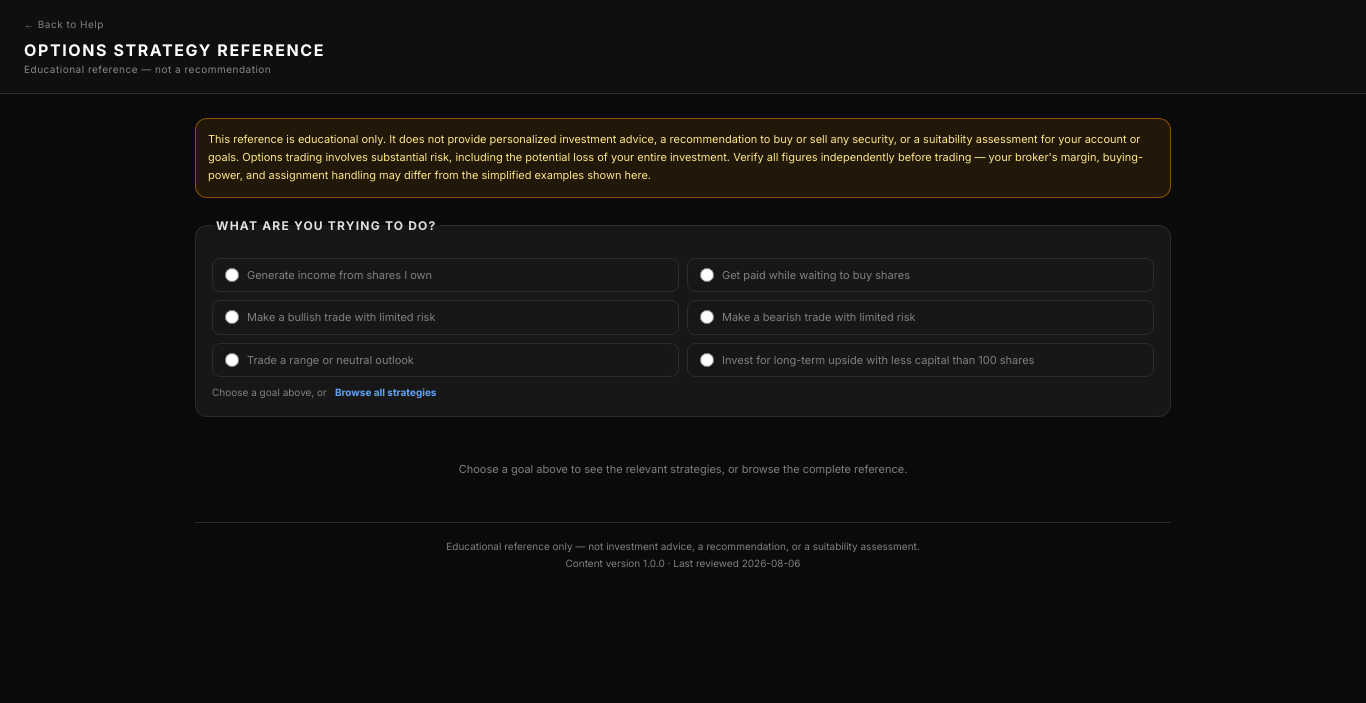
Test: HELP-0001: Options Strategy Reference page › comparison selection and removal › "Remove" on a compared strategy takes it out of the tray
Click the button "Browse all strategies" at (386, 393), box [335,385,436,400]
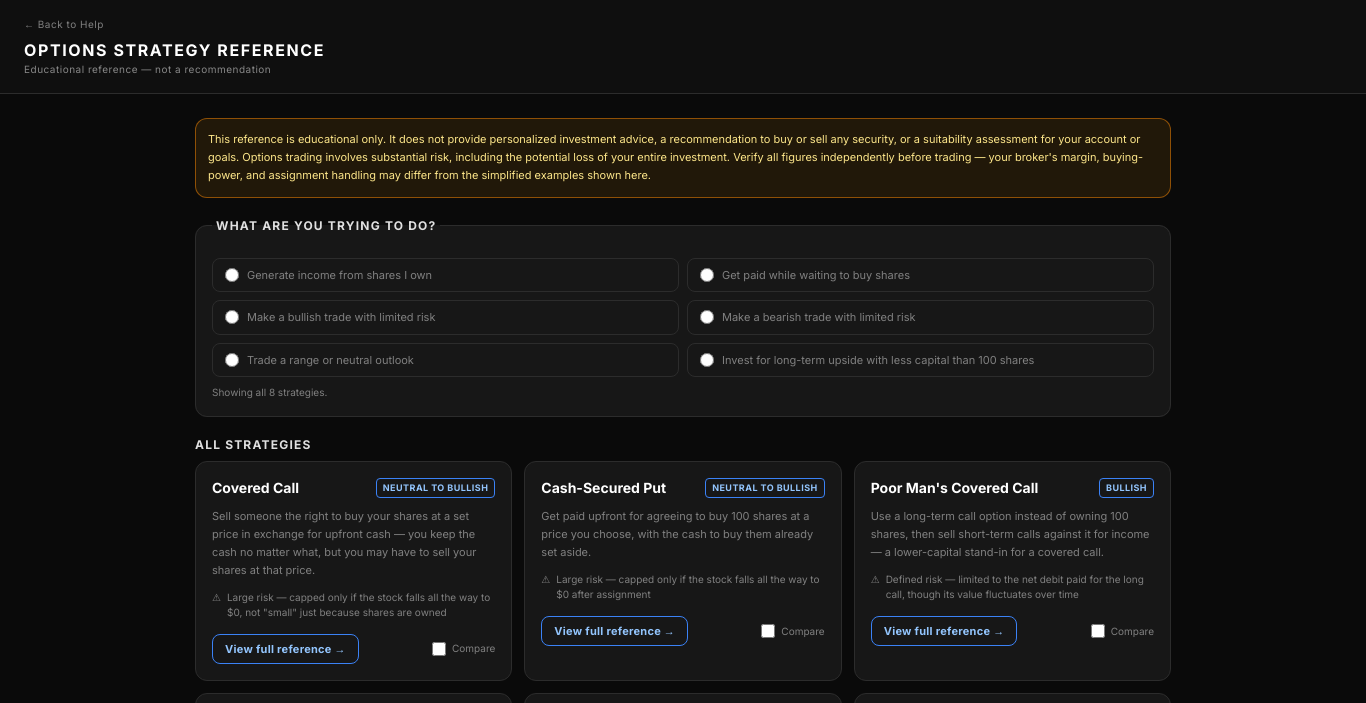
Click the 3rd checkbox labelled "Compare" at (439, 649), box [432,642,446,656]
(page scrolled)
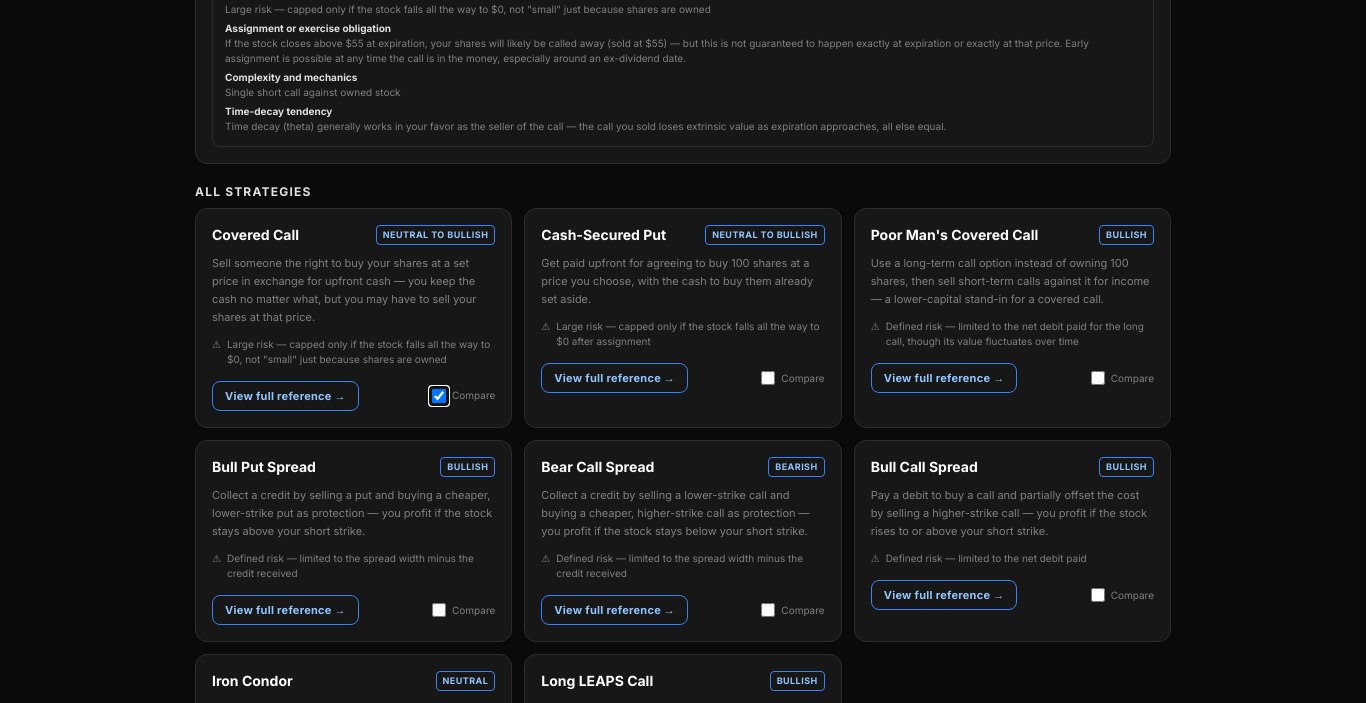
Click the checkbox labelled "Compare" below "Cash-Secured Put" at (768, 378), box [761,371,775,385]
(page scrolled)
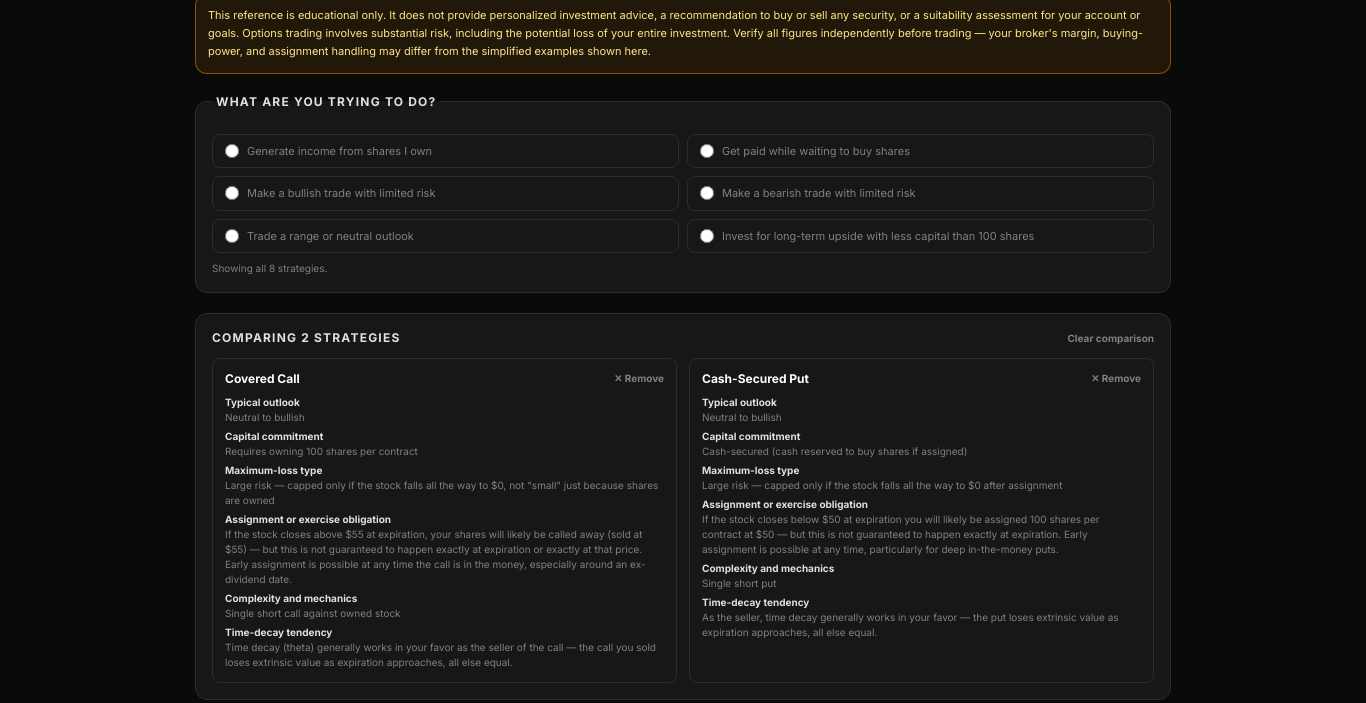
Click the 1st button "✕ Remove" at (639, 379), box [614,371,664,386]
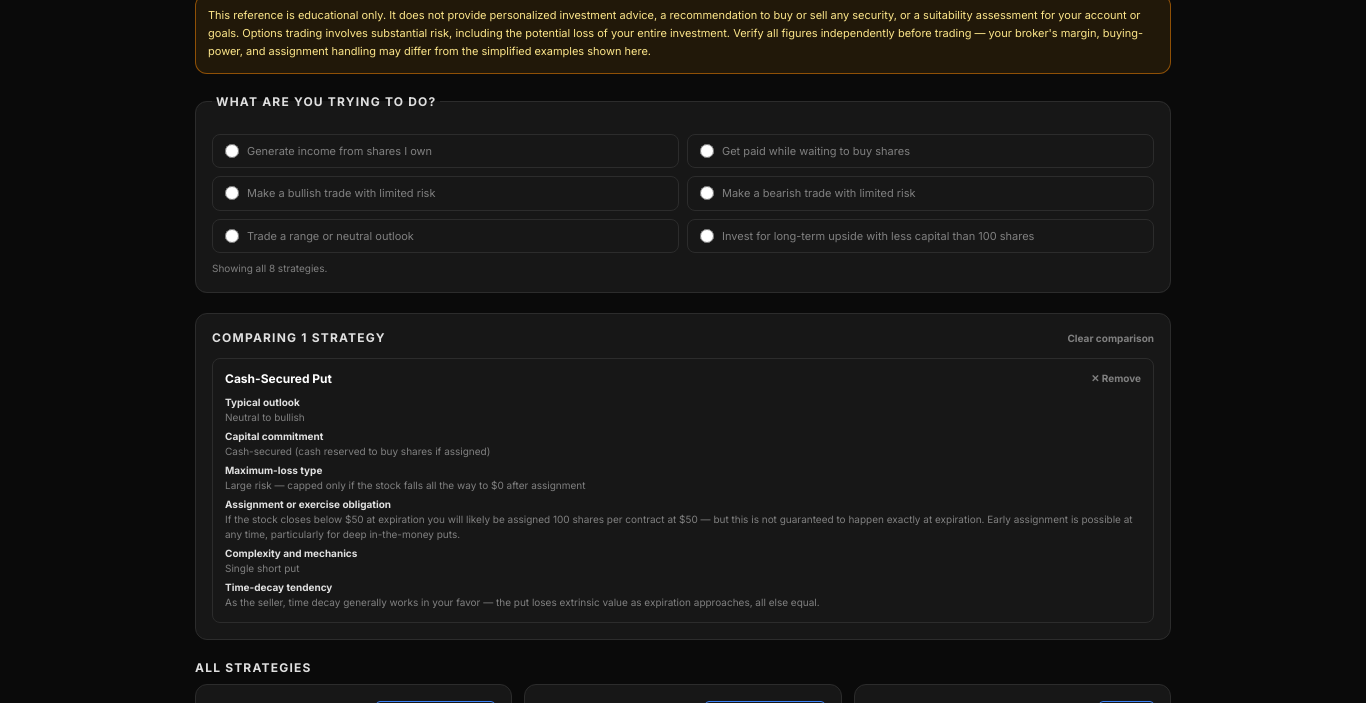
Check: the heading "Comparing 1 strategy" is shown, box [212,330,386,346]
